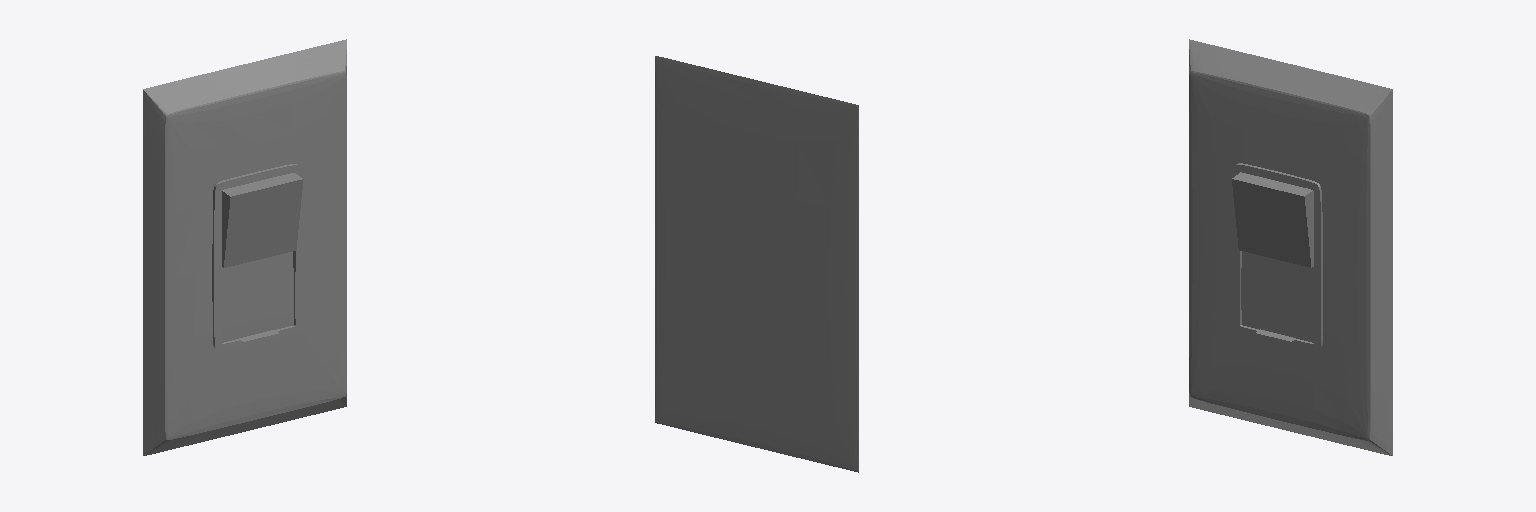
File: switch.obj
3 views of the same model, side by side, from view 1: azimuth 30°, elevation 25°; view 2: azimuth 150°, elevation 25°; view 3: azimuth 330°, elevation 25° (orthographic).
Parts seen in each view (by area): view 1: 10121_Light_Switch_v1_L3; view 2: 10121_Light_Switch_v1_L3; view 3: 10121_Light_Switch_v1_L3.
Boxes of the visible parts, x1=… form: 10121_Light_Switch_v1_L3: x1=143, y1=39, x2=346, y2=455; 10121_Light_Switch_v1_L3: x1=655, y1=56, x2=858, y2=472; 10121_Light_Switch_v1_L3: x1=1189, y1=39, x2=1392, y2=455.
Bounding box in the file's own units: 0.2775 × 0.477 × 0.0539.